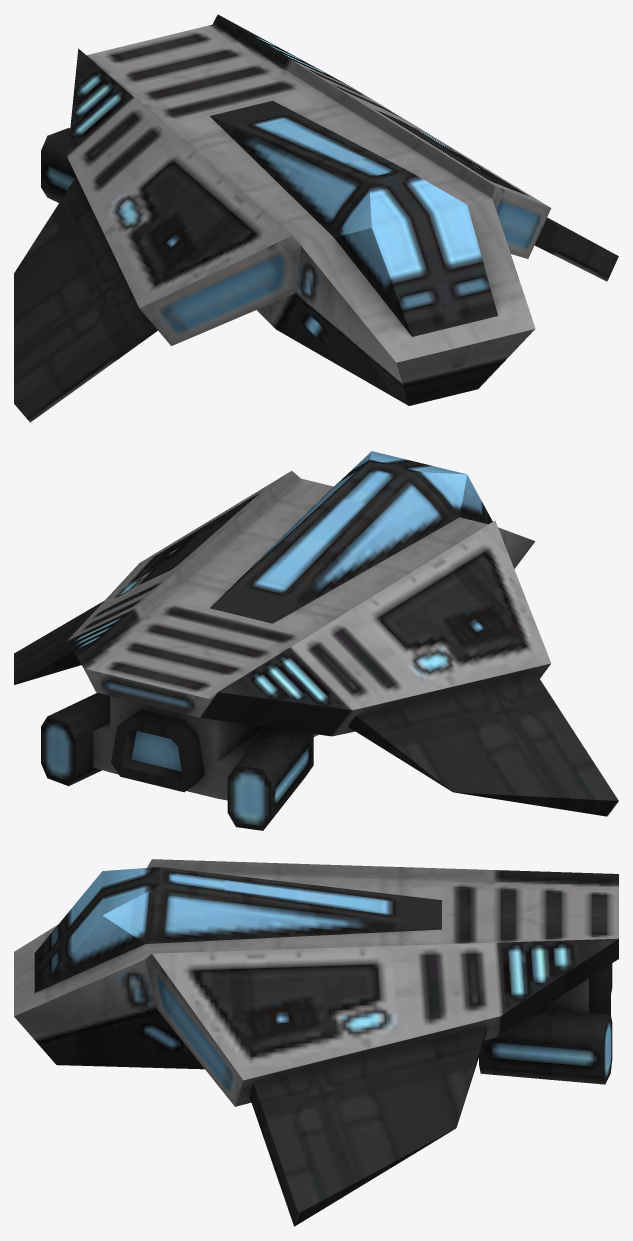
Rendered from fighter.fbx.
The picture shows the model from 3 angles, top to bottom: view 1: azimuth 30°, elevation 25°; view 2: azimuth 150°, elevation 25°; view 3: azimuth 270°, elevation 25°; orthographic projection. The views are drawn at different scales.
Parts seen in each view (by area): view 1: pCube4; view 2: pCube4; view 3: pCube4.
Boxes of the visible parts, x1,y1,x2,y2 form: pCube4: (14, 14, 618, 422); pCube4: (14, 451, 618, 830); pCube4: (14, 859, 618, 1226).
Bounding box in the file's own units: 302 × 109 × 275.
